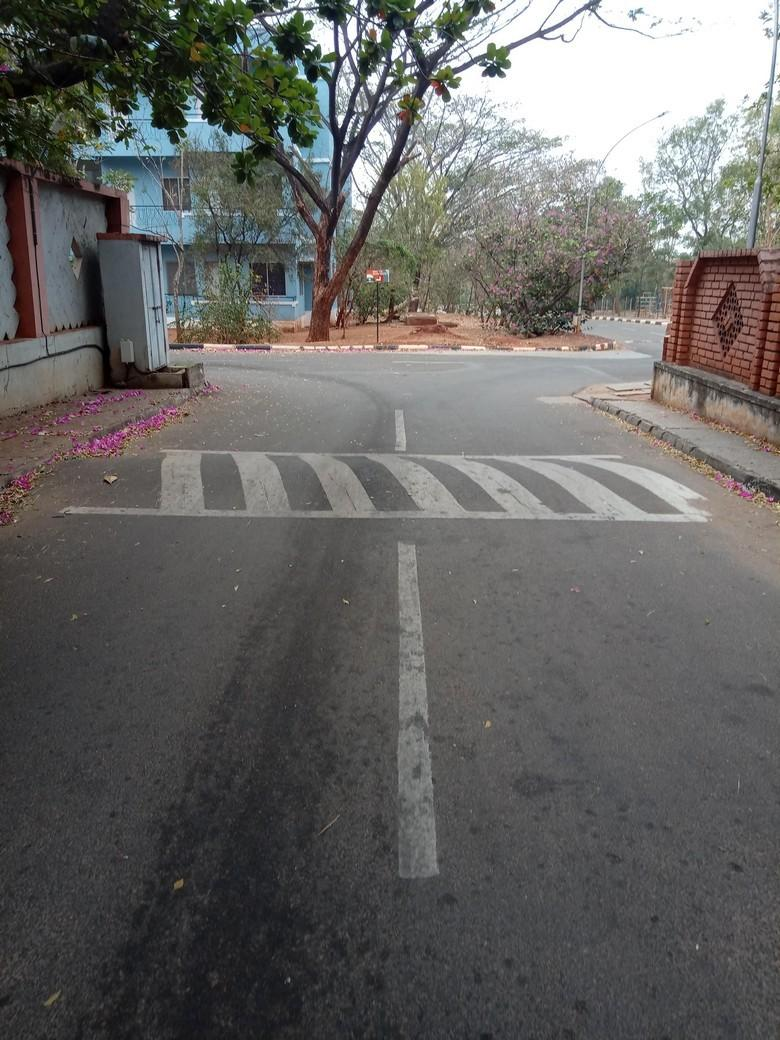speed-bump: (65, 443, 713, 524)
